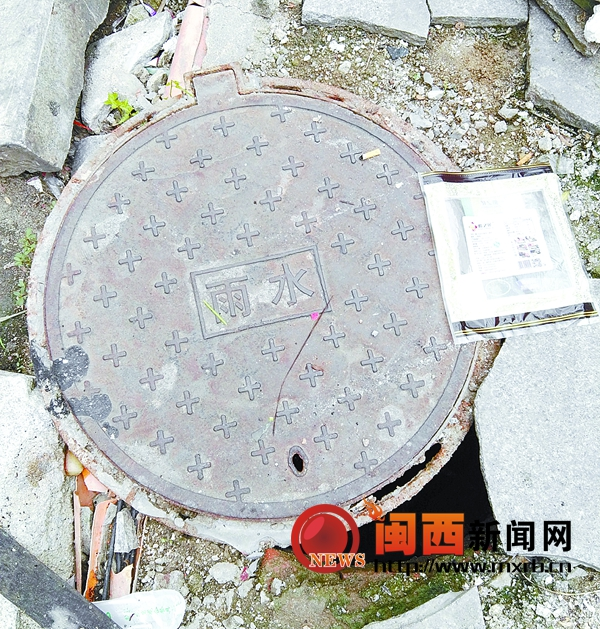circle: (24, 28, 518, 629)
